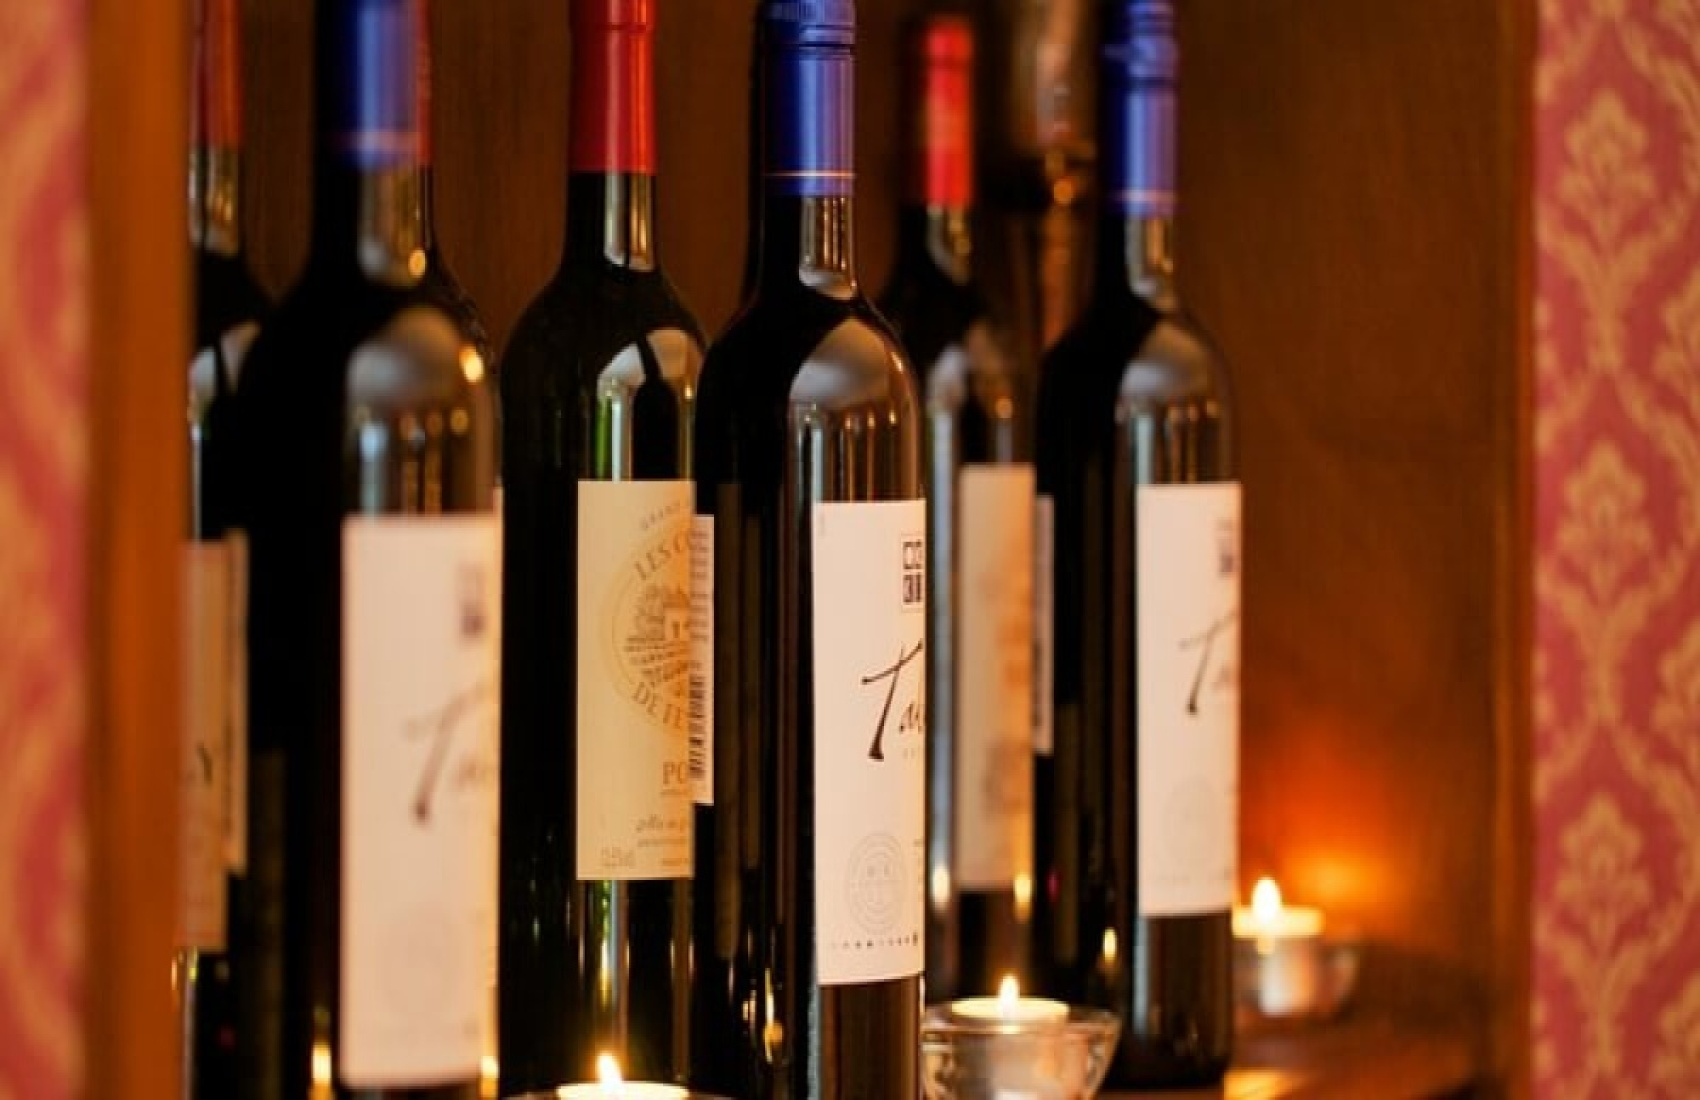wine: (178, 25, 507, 1100), (691, 12, 929, 1075), (510, 14, 693, 1064), (1045, 2, 1225, 1053)
